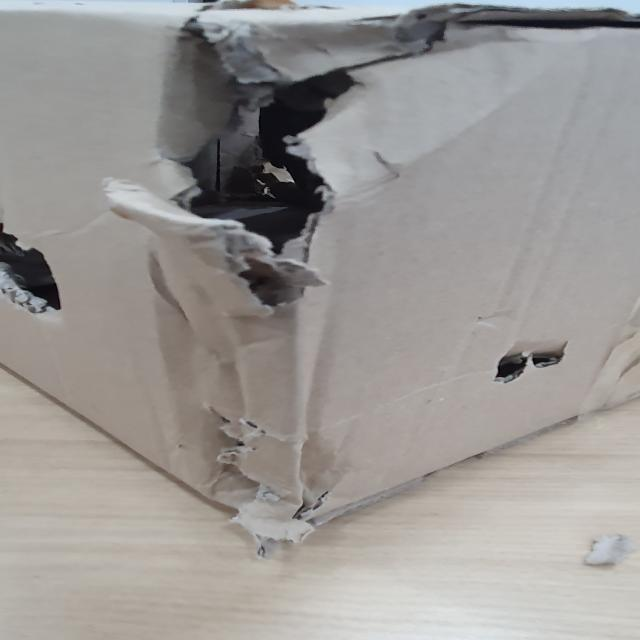hole: (115, 21, 373, 306), (200, 407, 341, 529), (0, 228, 72, 313), (478, 339, 590, 381)
